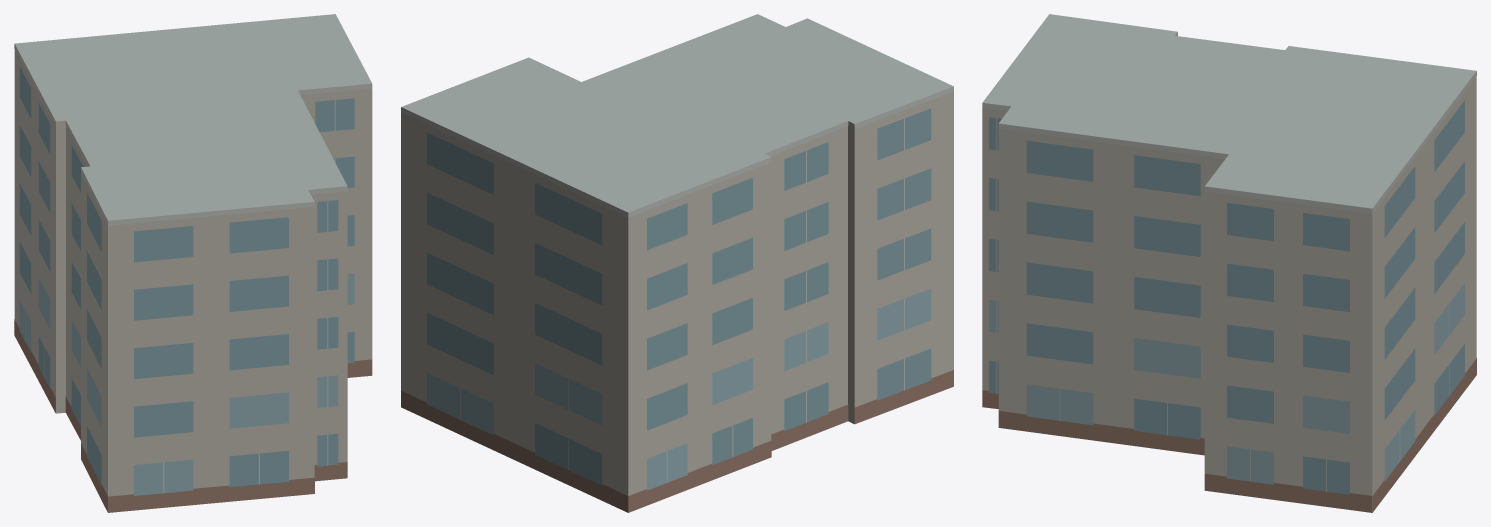
Rendered from survey-upis-32535319.glb.
3 views of the same model, side by side, from view 1: azimuth 30°, elevation 25°; view 2: azimuth 150°, elevation 25°; view 3: azimuth 270°, elevation 25° (orthographic). The views are drawn at different scales.
Parts seen in each view (by area): view 1: survey-upis-32535319.tmp; view 2: survey-upis-32535319.tmp; view 3: survey-upis-32535319.tmp.
Boxes of the visible parts, <box> form: survey-upis-32535319.tmp: <box>14,14,372,512</box>; survey-upis-32535319.tmp: <box>401,14,953,512</box>; survey-upis-32535319.tmp: <box>982,14,1476,512</box>.
Bounding box in the file's own units: 19.62 × 14.3 × 21.07.
